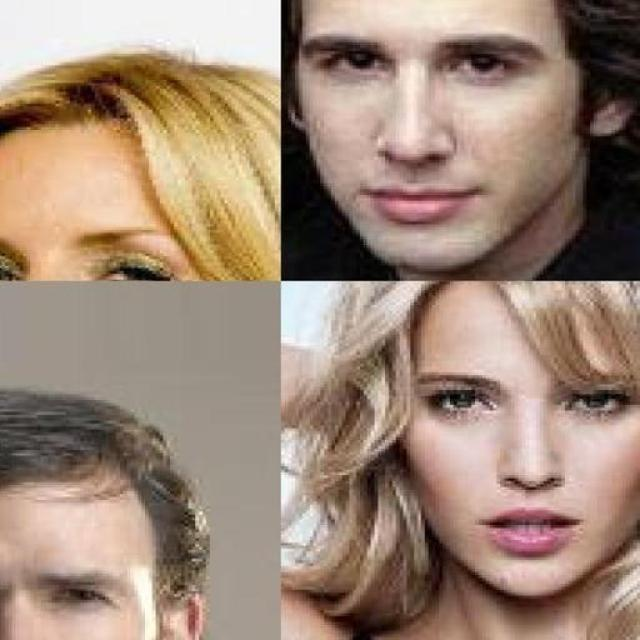bareface: (374, 291, 640, 640)
